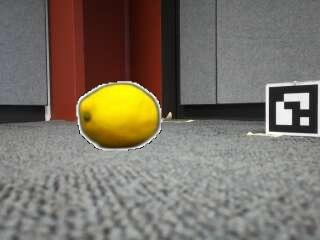lemon: (79, 85, 159, 149)
